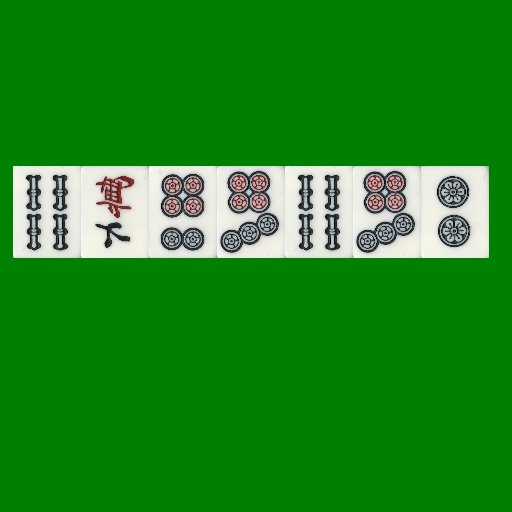2p: (421, 166, 489, 258)
4s: (13, 166, 81, 258), (285, 166, 353, 258)
6p: (149, 166, 217, 258)
7m: (81, 166, 149, 258)
7p: (217, 166, 285, 258), (353, 166, 421, 258)
